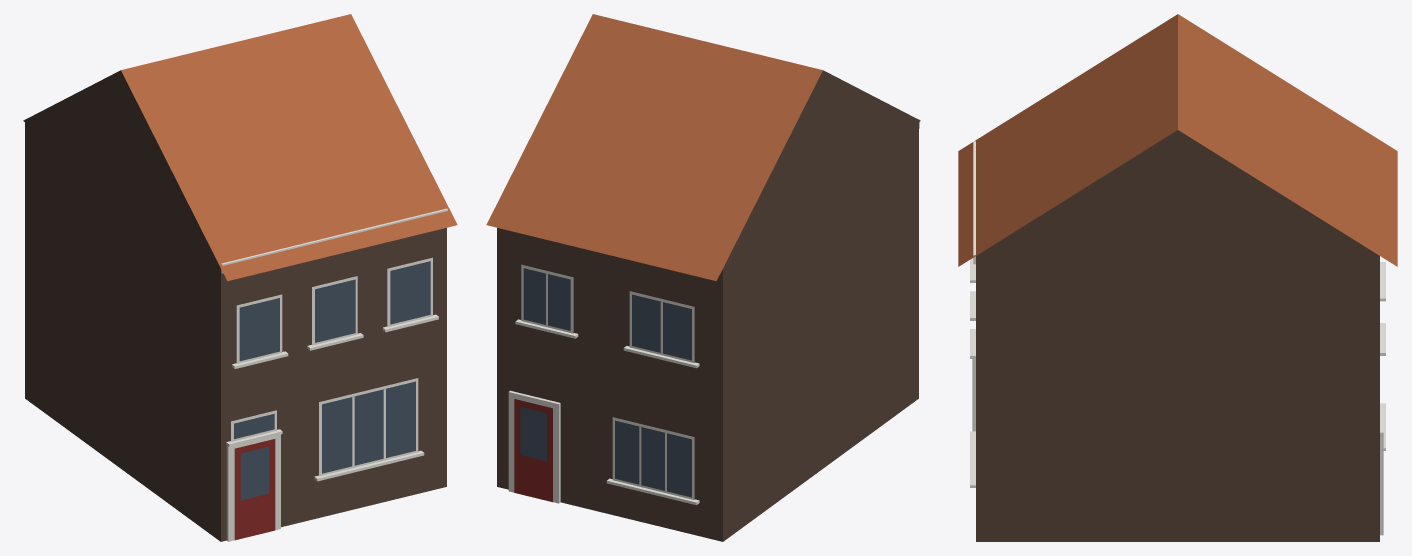
The model's file is nd-to-row__triple-orange__2__gable__long__solid__f0d0.glb.
The picture shows the model from 3 angles, left to right: view 1: azimuth 30°, elevation 25°; view 2: azimuth 150°, elevation 25°; view 3: azimuth 270°, elevation 25°; orthographic projection. The views are drawn at different scales.
Visible parts, largest first — view 1: nd-to-row__triple-orange__2__gable__long__solid__f0d0; view 2: nd-to-row__triple-orange__2__gable__long__solid__f0d0; view 3: nd-to-row__triple-orange__2__gable__long__solid__f0d0.
Part boxes in pixels (x1=…): nd-to-row__triple-orange__2__gable__long__solid__f0d0: x1=23, y1=14, x2=457, y2=541; nd-to-row__triple-orange__2__gable__long__solid__f0d0: x1=486, y1=14, x2=920, y2=541; nd-to-row__triple-orange__2__gable__long__solid__f0d0: x1=958, y1=14, x2=1397, y2=541.
Bounding box in the file's own units: 5.38 × 8.95 × 8.63.
